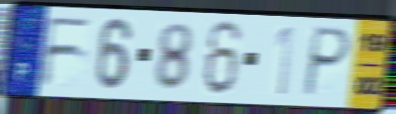1: (274, 25, 295, 97)
6: (202, 18, 244, 99), (95, 17, 135, 92)
8: (154, 21, 195, 92)
F: (37, 15, 94, 89)
P: (300, 25, 354, 99)
